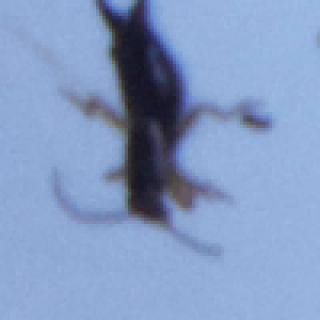earwig: (48, 0, 260, 261)
